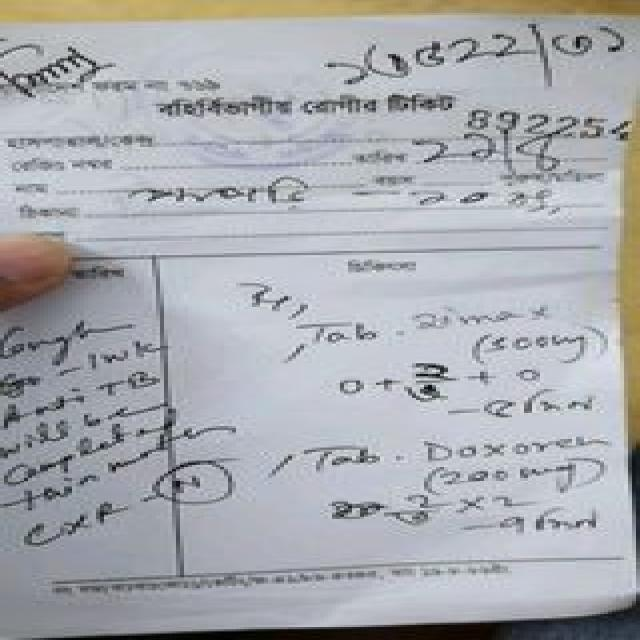Doxorin: (414, 434, 606, 464)
Zimax: (389, 303, 587, 338)
